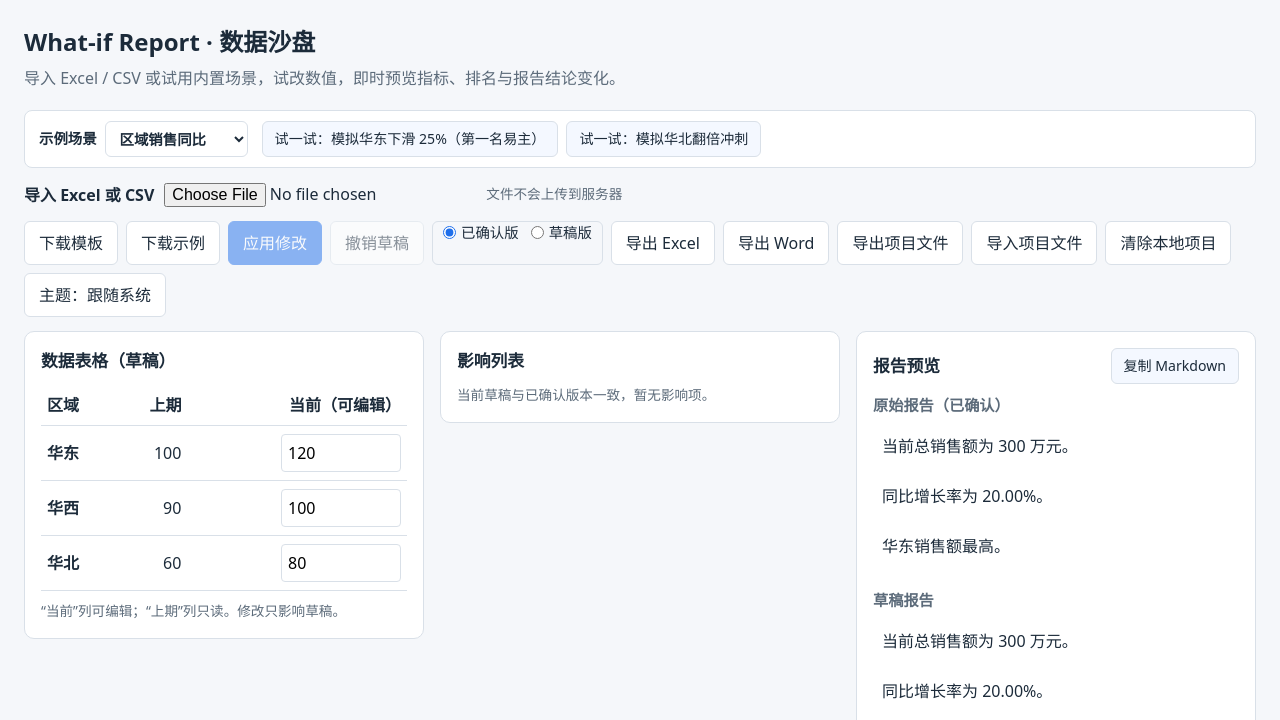
Test case: DemoBar and Markdown copy › switches scenario templates cleanly when no edits are pending
The width and height of the screenshot is (1280, 720).
Select "部门预算执行" in the dropdown labelled "示例场景" at (176, 139), box [105, 121, 248, 157]
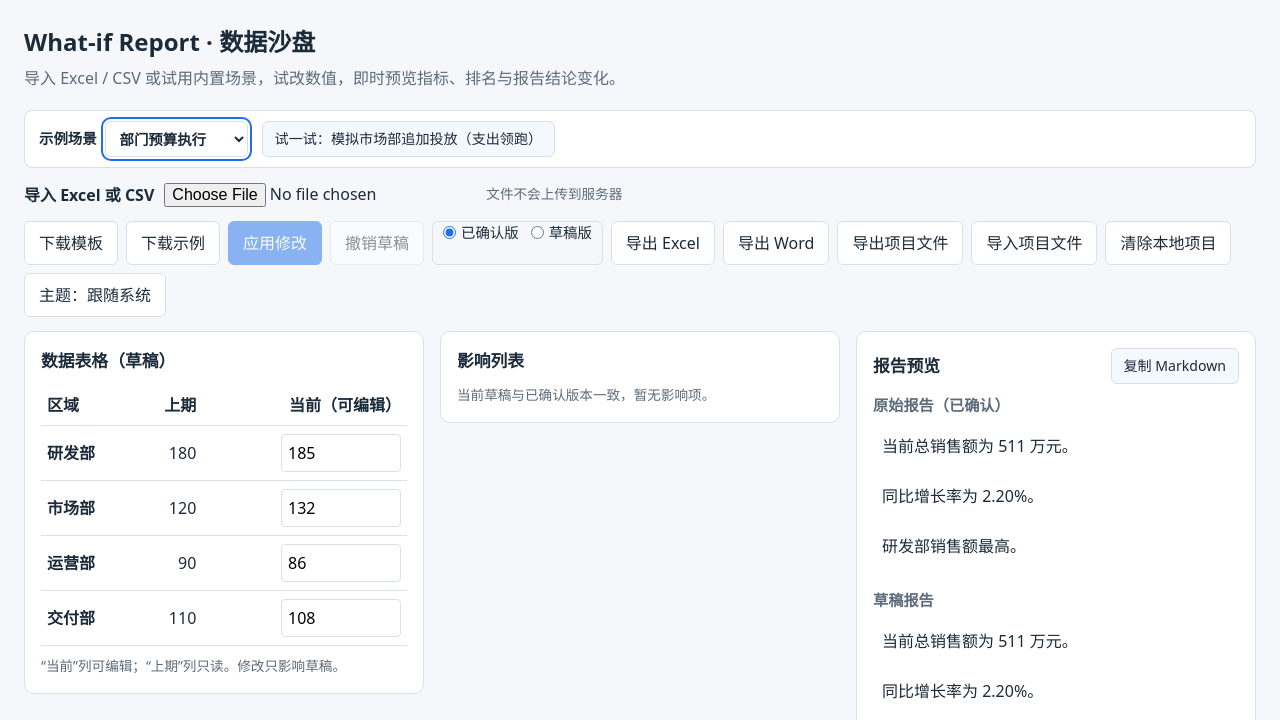
expect the number field named "研发部当前销售额" holds "185": met, box [281, 434, 401, 472]
expect the button "试一试：模拟市场部追加投放（支出领跑）" is shown: met, box [262, 121, 555, 157]
